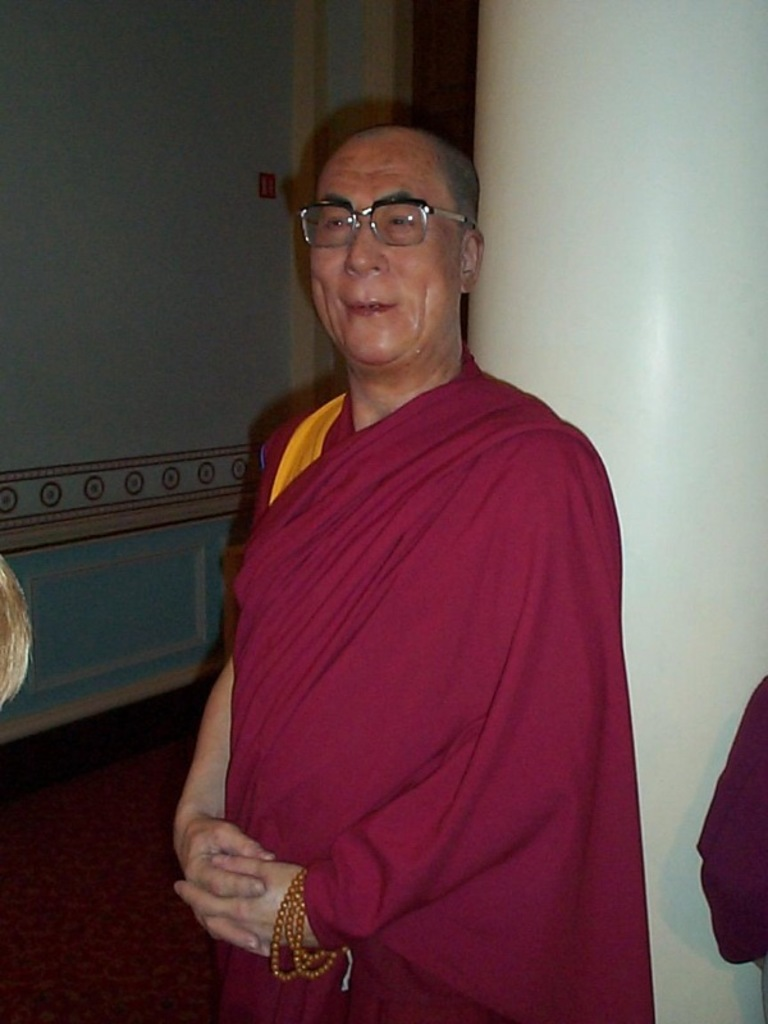Person: (178, 120, 666, 1024)
